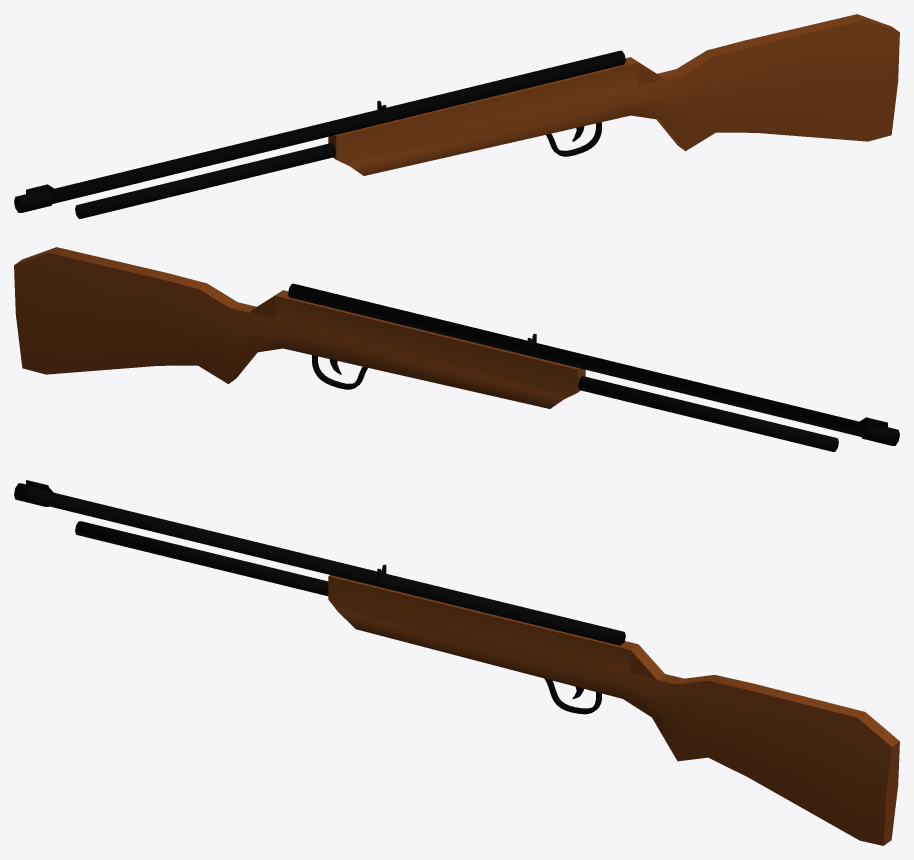
The model's file is rifle.fbx.
3 views of the same model, one above another, from view 1: azimuth 30°, elevation 25°; view 2: azimuth 150°, elevation 25°; view 3: azimuth 330°, elevation 25° (orthographic).
Visible parts, largest first — view 1: drevo, hornihlaven, dolnipaka, spoust1; view 2: drevo, hornihlaven, dolnipaka, spoust1; view 3: drevo, hornihlaven, dolnipaka.
Part boxes in pixels (x1,y1,x2,y2): drevo: (328,14,899,175); hornihlaven: (14,50,625,212); dolnipaka: (75,143,335,218); spoust1: (546,122,601,156); drevo: (14,247,585,408); hornihlaven: (288,283,899,445); dolnipaka: (578,376,838,451); spoust1: (312,355,367,389); drevo: (328,575,899,845); hornihlaven: (14,483,625,645); dolnipaka: (75,521,328,595).
Bounding box in the file's own units: 48.49 × 8.09 × 1.15.
